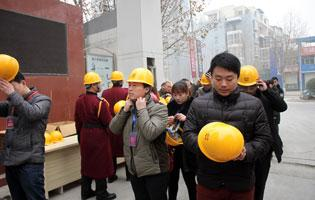helmet: (197, 121, 245, 163), (1, 53, 23, 85), (127, 68, 157, 90), (238, 66, 261, 87), (166, 124, 185, 147), (84, 72, 103, 86), (114, 101, 128, 118), (110, 71, 126, 84), (52, 130, 65, 144), (200, 74, 212, 86), (45, 132, 55, 146), (165, 97, 172, 105)
